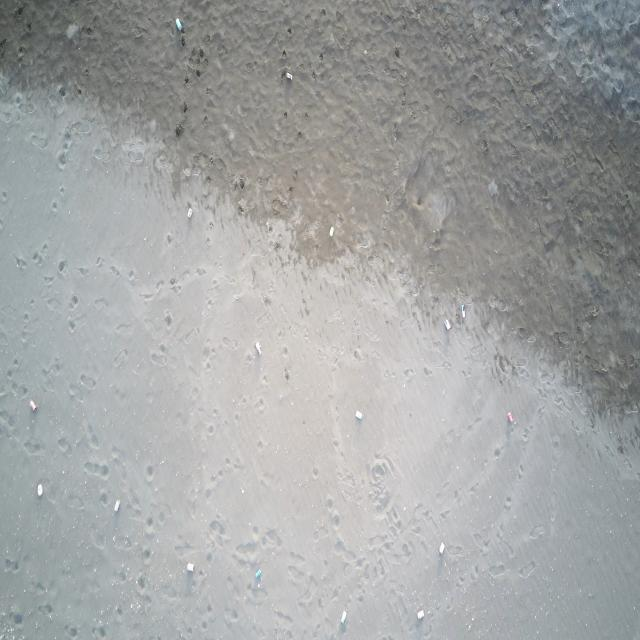Garbage: (65, 24, 79, 39), (487, 180, 496, 196), (175, 18, 183, 32), (28, 399, 36, 412), (112, 500, 120, 512), (340, 609, 346, 624), (416, 609, 424, 620), (444, 318, 451, 329), (355, 409, 362, 420), (507, 412, 513, 423), (36, 484, 42, 495), (460, 303, 464, 319), (285, 71, 292, 80), (255, 568, 260, 580), (440, 542, 444, 555), (256, 342, 260, 355), (187, 563, 192, 572), (328, 227, 333, 236), (187, 207, 191, 218)
